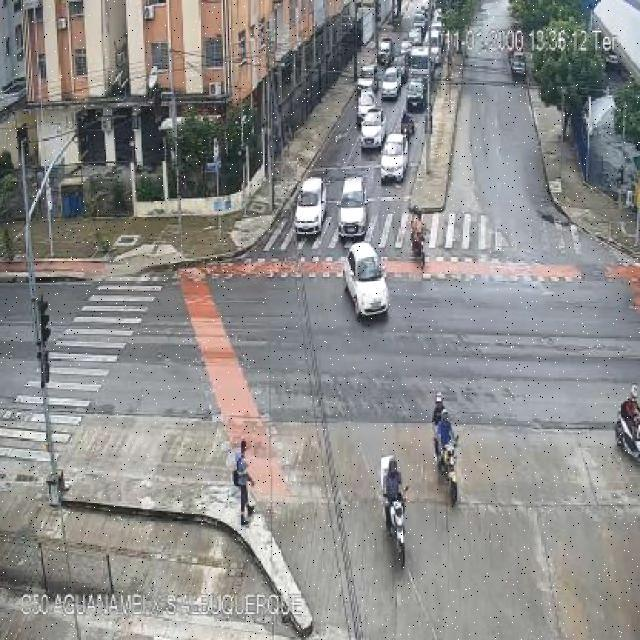Car: (344, 240, 389, 317), (293, 177, 327, 236), (338, 178, 369, 238), (380, 132, 410, 182), (358, 109, 386, 150), (356, 88, 380, 126), (380, 68, 402, 101), (409, 46, 431, 79), (406, 79, 426, 111), (356, 74, 375, 101), (509, 53, 527, 79), (427, 28, 442, 59), (377, 38, 393, 65), (412, 11, 426, 35), (359, 64, 376, 82), (408, 28, 422, 48), (432, 8, 443, 25)
